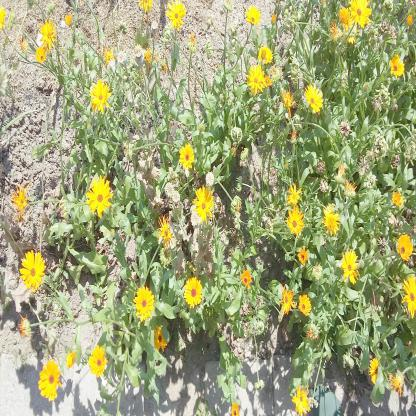marigold: (85, 174, 113, 218), (37, 358, 63, 402), (19, 249, 46, 290), (10, 182, 32, 223), (133, 285, 157, 322), (194, 182, 215, 224), (90, 77, 112, 116), (87, 344, 109, 379), (340, 246, 359, 286), (291, 380, 312, 416), (245, 63, 267, 97), (348, 0, 373, 29), (400, 273, 416, 317), (166, 0, 188, 31), (183, 276, 204, 308), (286, 205, 306, 238), (304, 82, 324, 114), (368, 354, 388, 385), (322, 204, 340, 237), (396, 232, 414, 264), (38, 20, 58, 48), (178, 141, 196, 170), (152, 322, 168, 354), (244, 3, 262, 27), (389, 52, 405, 78), (286, 183, 304, 206), (258, 41, 273, 66), (298, 292, 312, 318), (64, 346, 79, 370), (34, 44, 48, 64), (139, 0, 154, 15)
